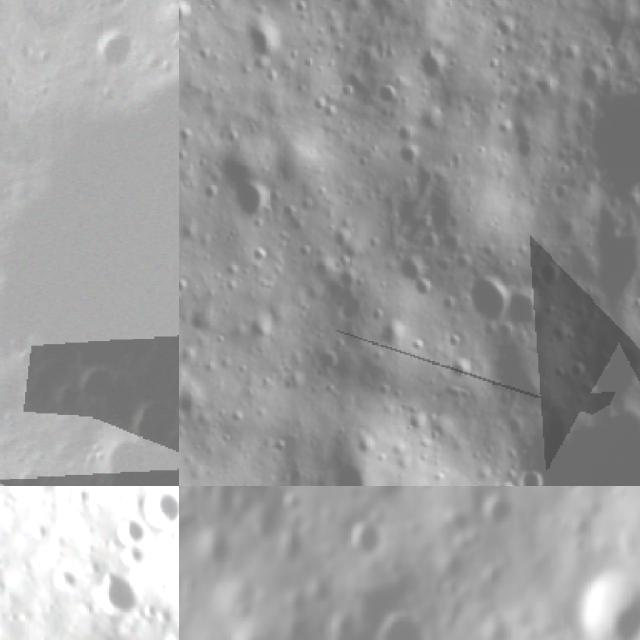crater: (0, 10, 179, 437), (577, 73, 640, 213), (58, 343, 138, 419), (110, 380, 179, 466), (579, 561, 639, 640), (458, 266, 514, 334), (87, 559, 147, 620), (86, 22, 144, 74), (241, 12, 288, 68), (230, 179, 280, 231), (502, 285, 548, 341), (414, 38, 455, 92), (138, 486, 179, 534), (368, 607, 426, 640), (342, 516, 378, 566), (109, 510, 152, 550), (384, 247, 426, 286), (369, 78, 404, 118), (534, 256, 568, 292), (481, 489, 514, 525), (393, 142, 422, 175), (515, 462, 553, 486), (388, 121, 418, 150), (412, 273, 443, 301), (319, 0, 363, 14), (179, 0, 199, 30), (169, 577, 179, 618), (482, 475, 517, 486)
